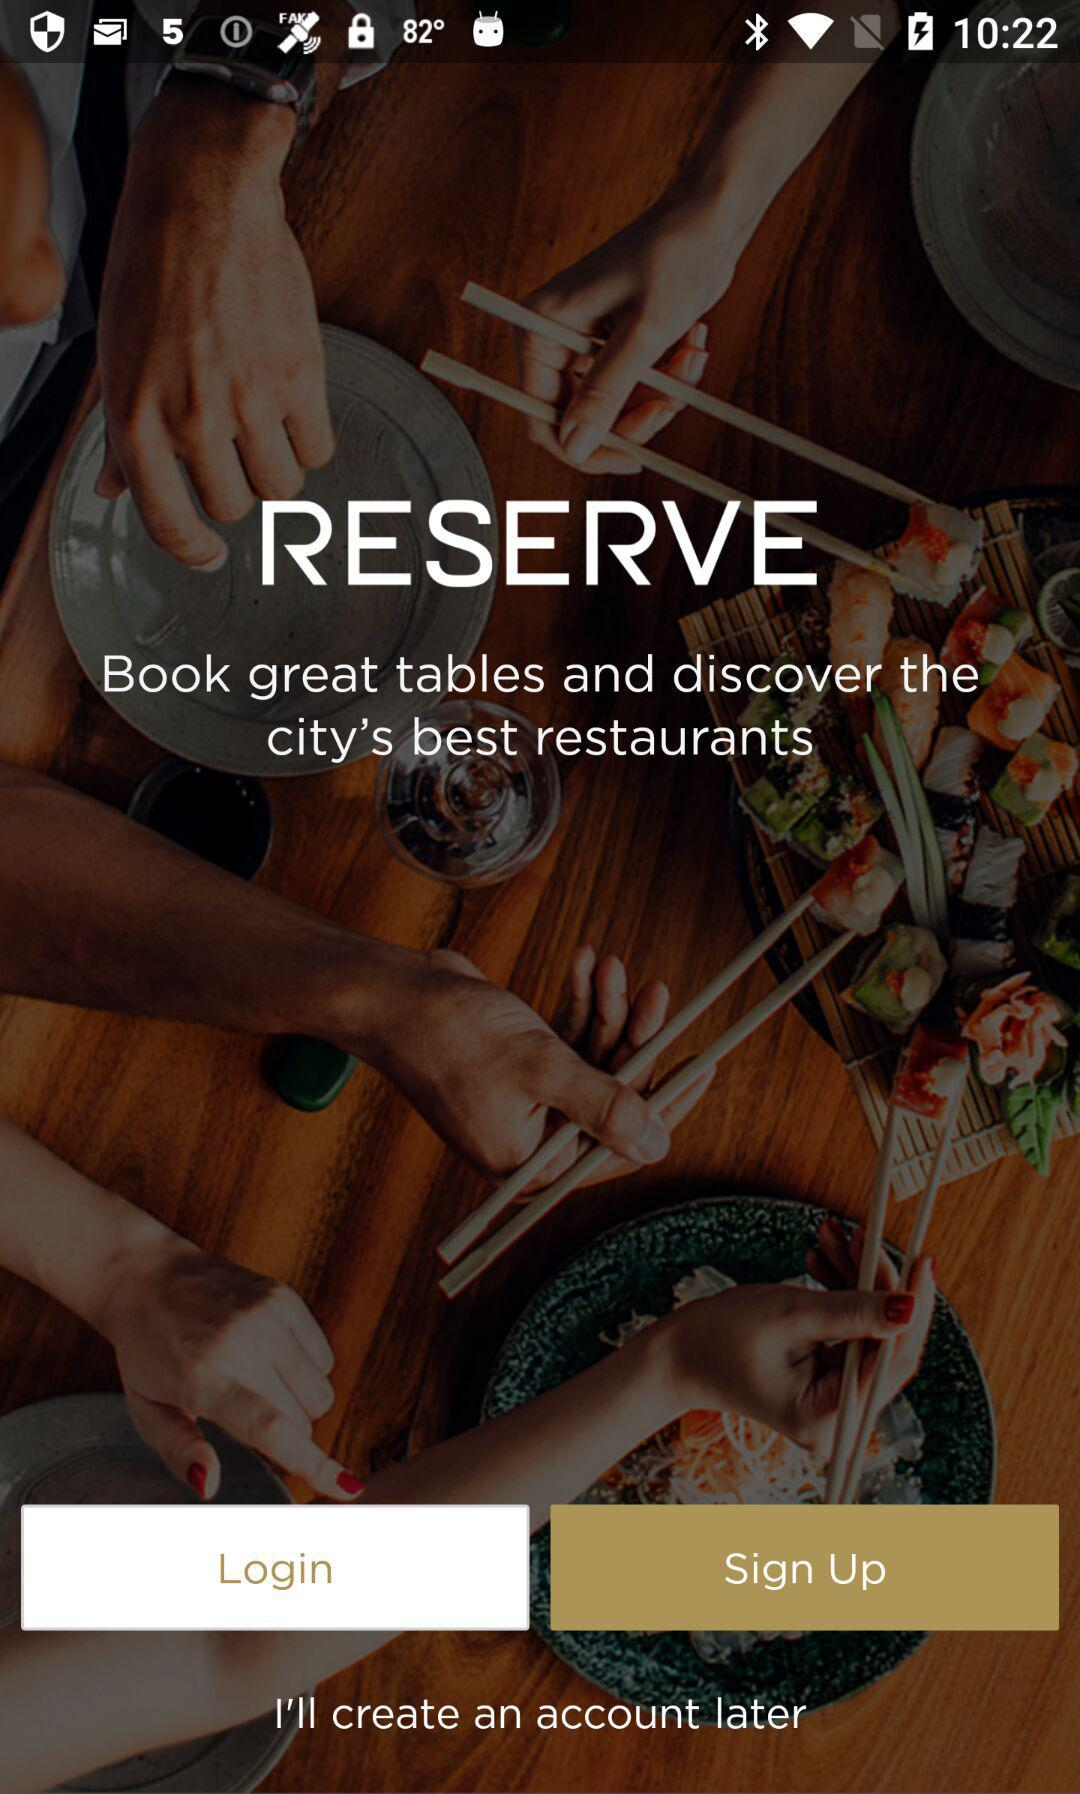BackgroundImage: (1, 64, 1080, 1794)
Image: (263, 500, 817, 587)
Text: (104, 654, 979, 765), (277, 1697, 807, 1730)
TextButton: (550, 1504, 1060, 1631), (22, 1504, 530, 1631)
UpperTaskBar: (1, 1, 1080, 64)
